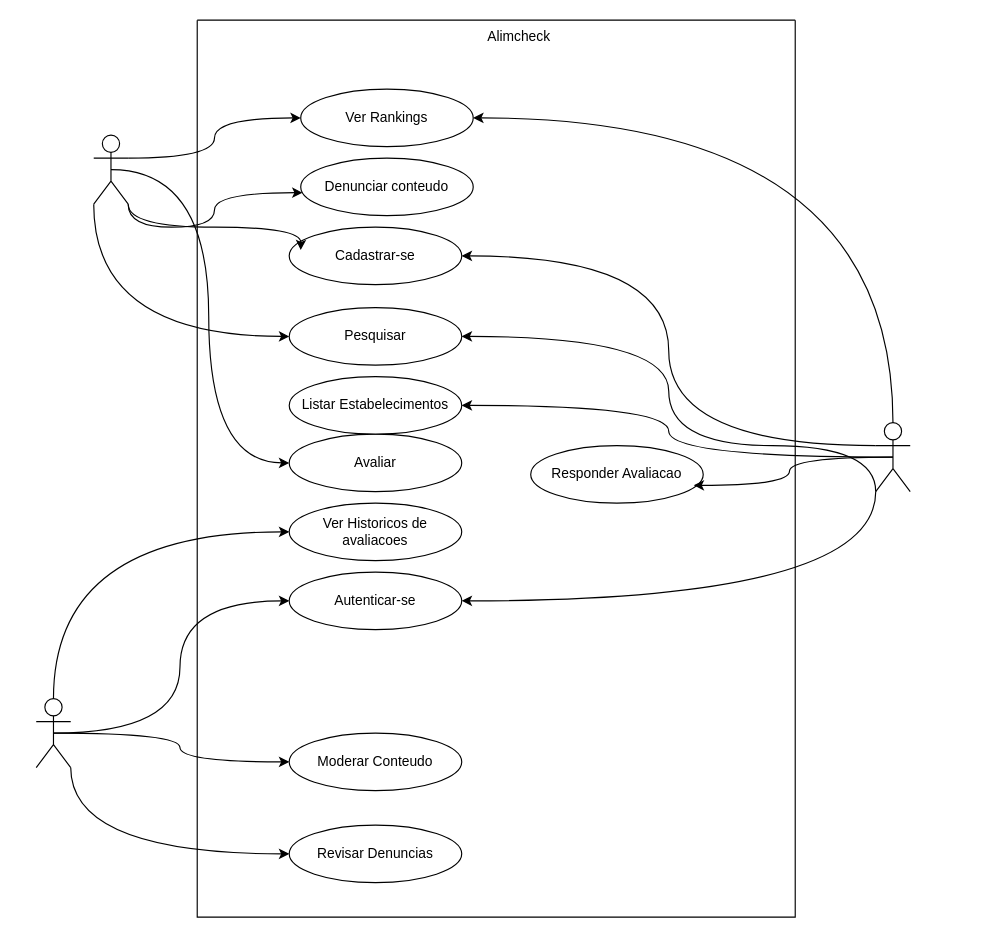
Image size: 991x937. Some labels were removed from this diagram. Here are the shapes that lost their labels. From the top down, the box of each, then its label:
(93, 134, 128, 204): Cliente
(875, 421, 910, 492): Dono de Estabelecimento
(35, 697, 71, 768): Moderador
